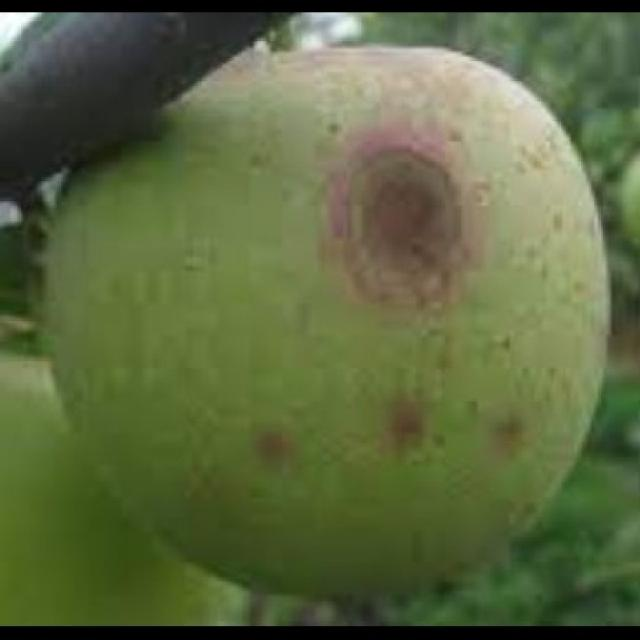Rotten Apple: (35, 40, 614, 600)
